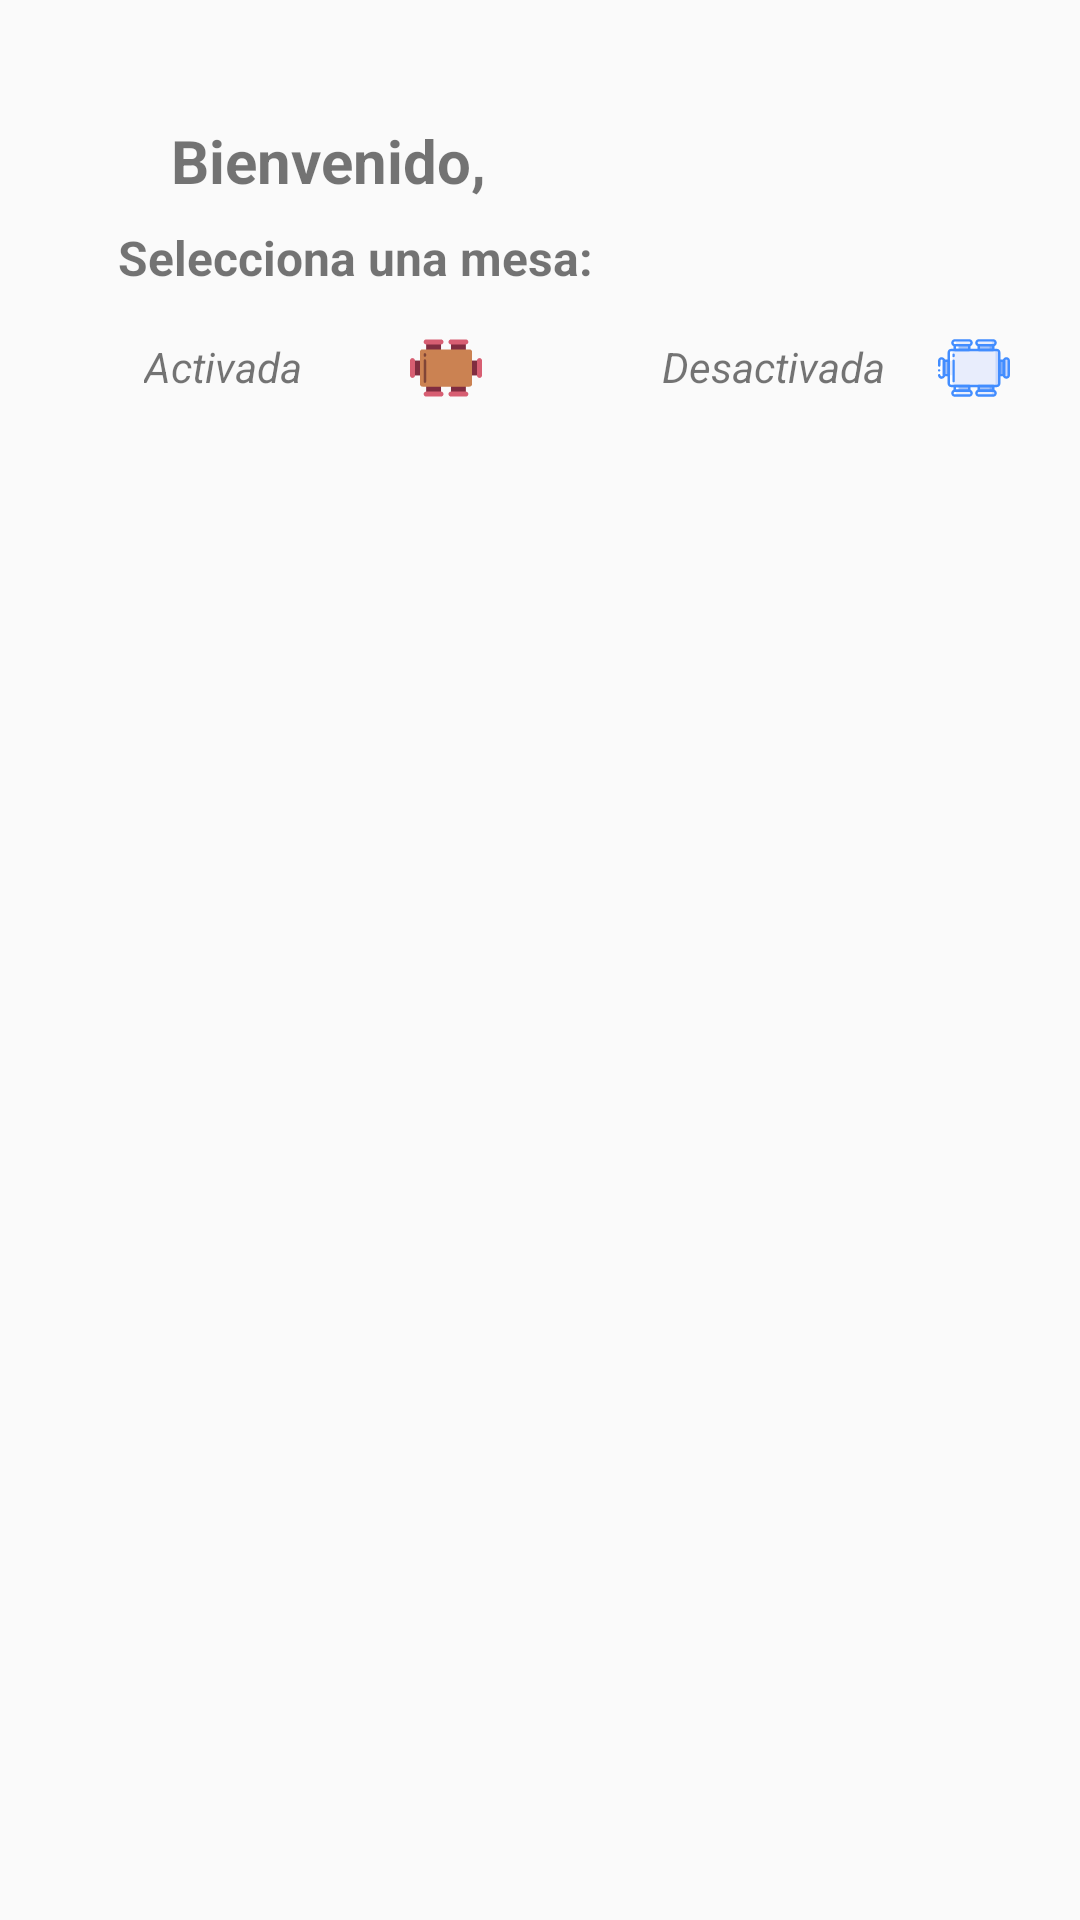

Icon click points for this 1080x1920 phone screenshot, format point (x, y):
mesadis: point (974, 368)
